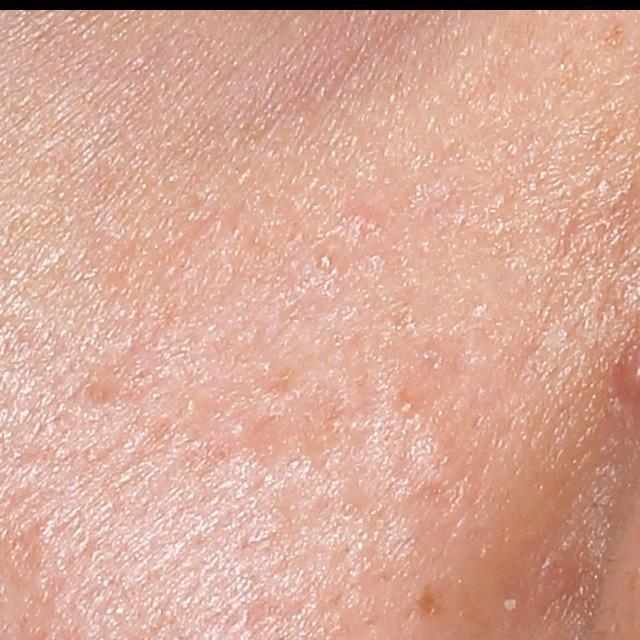comedo: (393, 392, 426, 420), (313, 249, 341, 273)
melasma: (600, 20, 634, 56)
